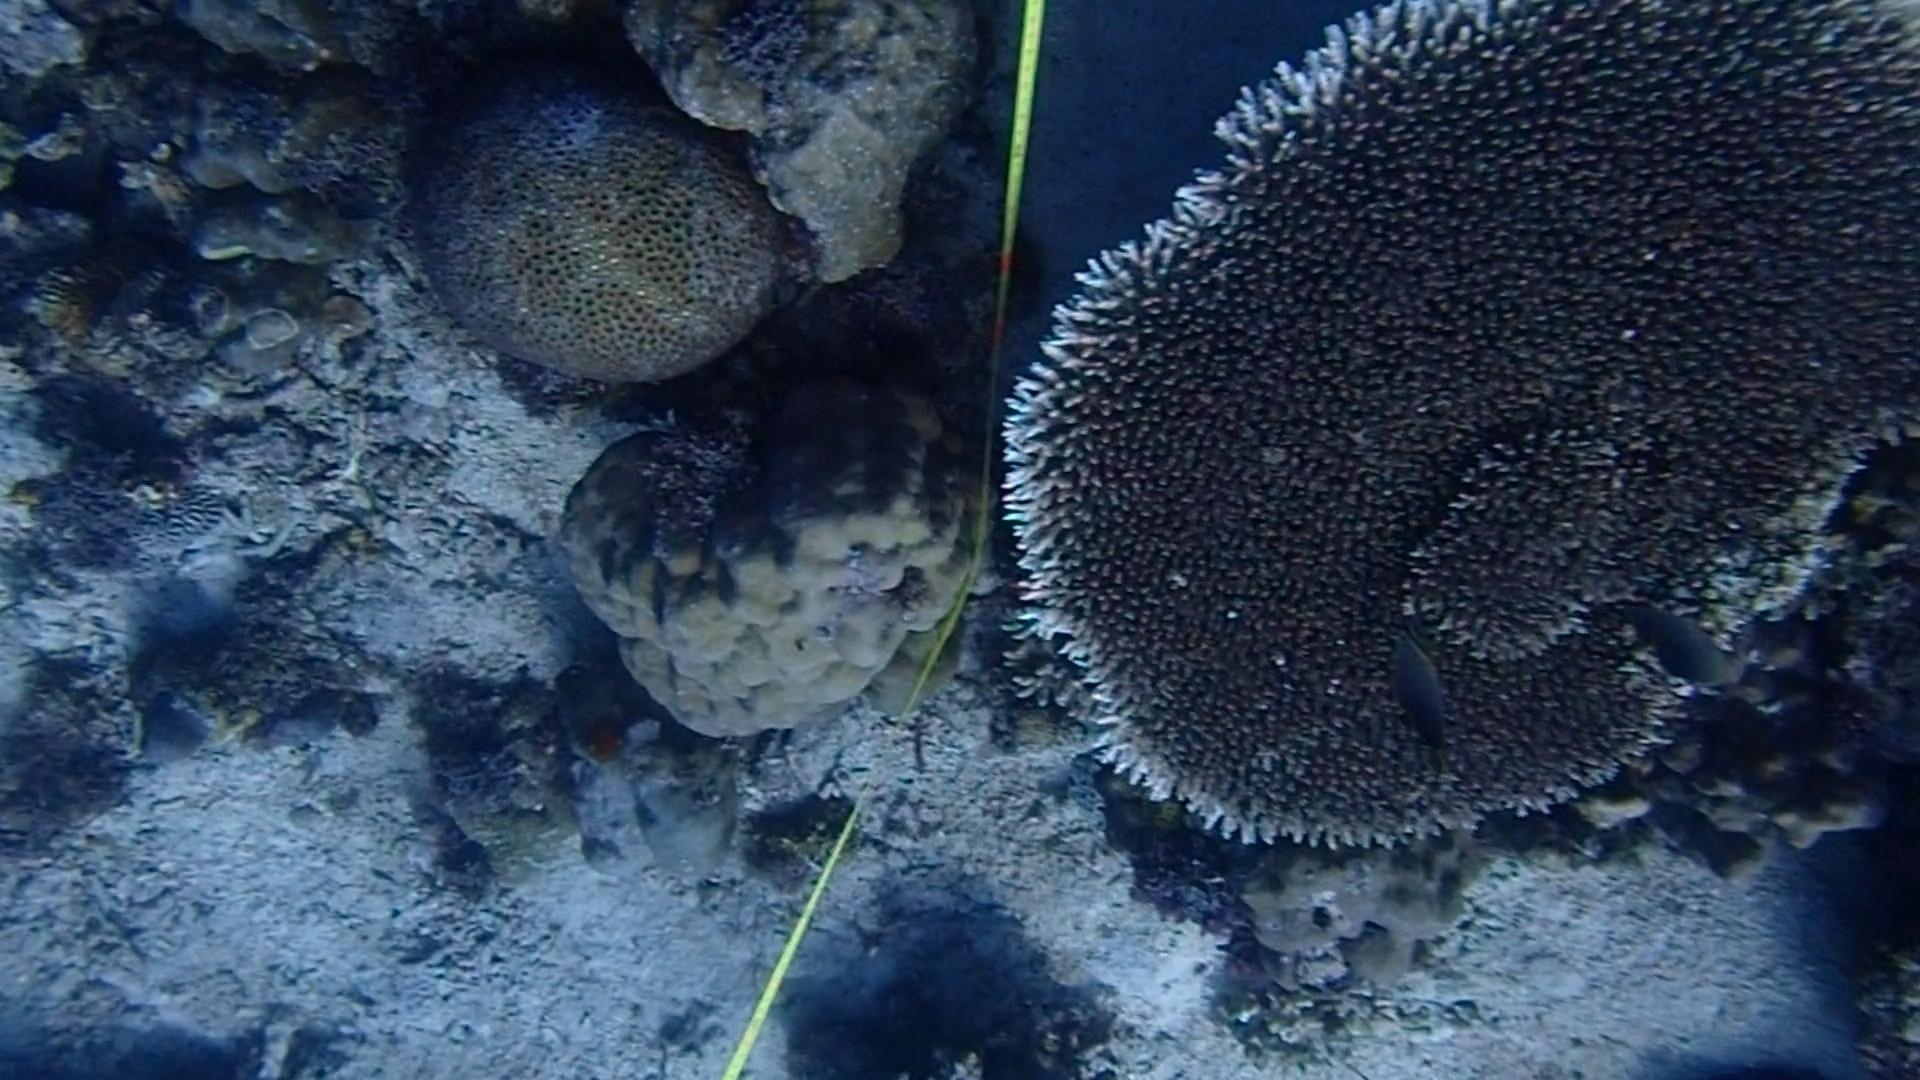Dark Blue Dory: (1385, 617, 1468, 771), (1633, 596, 1750, 699)
Light Fish: (339, 177, 406, 237)
